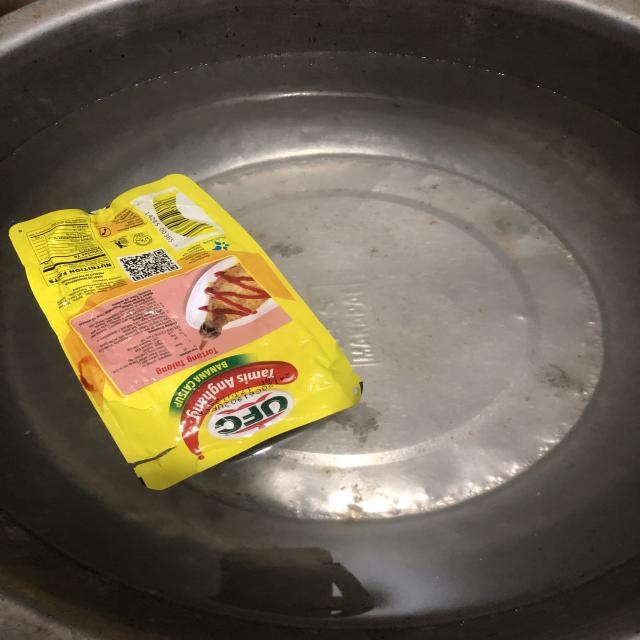Plastic Pouch: (0, 143, 404, 508)
